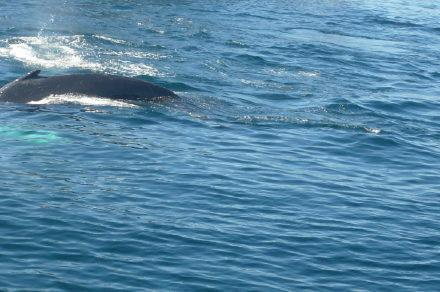fish: (1, 68, 212, 129)
